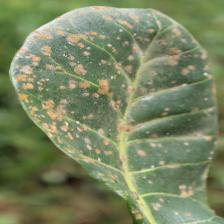red rust: (7, 3, 223, 223)
